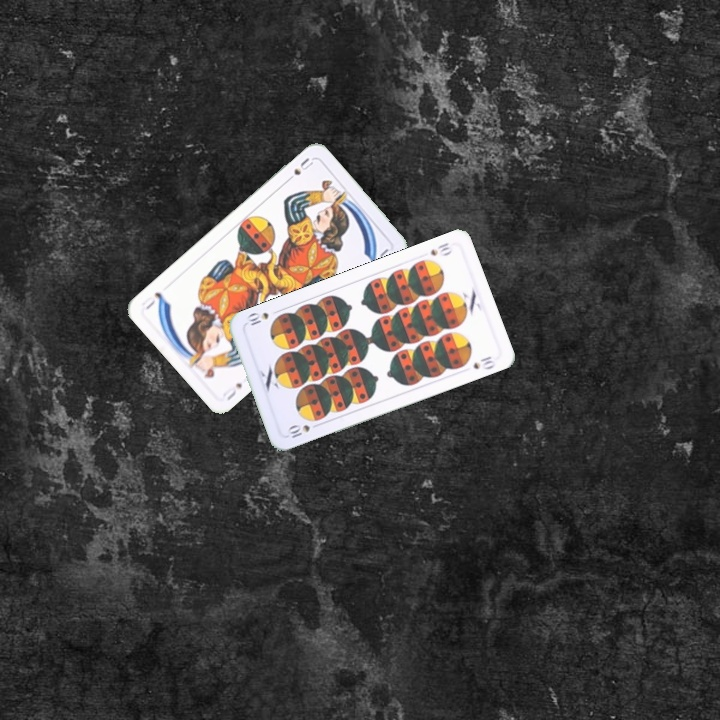S10: (283, 419, 323, 441), (426, 238, 455, 258)
SU: (282, 154, 316, 185), (218, 379, 245, 403)
